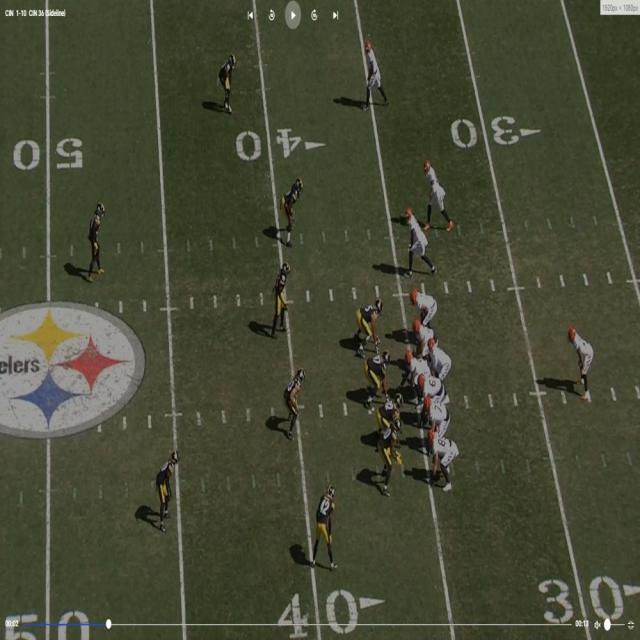center: (402, 351, 424, 398)
db: (157, 452, 180, 530), (321, 488, 336, 570), (89, 203, 104, 277), (224, 54, 238, 112)
lb: (379, 418, 402, 492), (274, 262, 291, 336), (281, 179, 298, 243), (290, 369, 305, 427)
qb: (427, 337, 451, 382)
skill: (404, 208, 429, 272), (570, 327, 592, 398), (432, 434, 459, 491), (426, 160, 446, 222), (369, 40, 386, 101)
